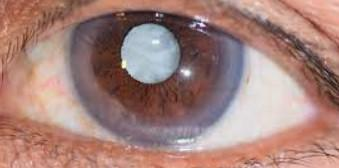eye: (69, 10, 244, 145)
